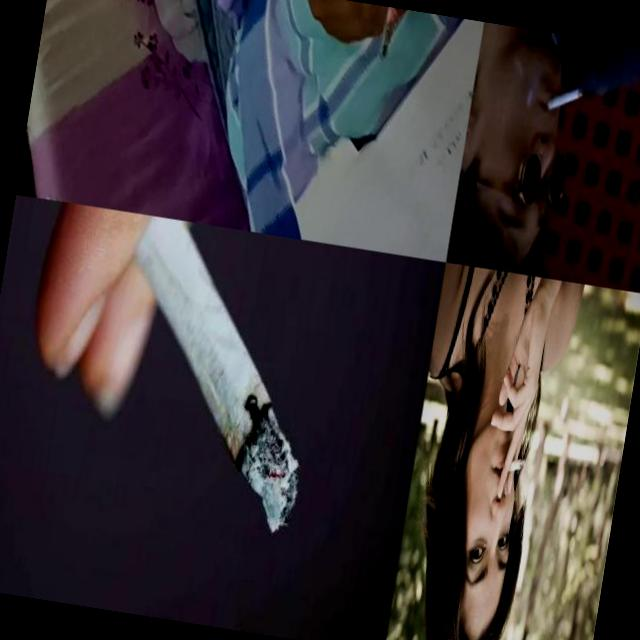smoke: (52, 207, 338, 538), (378, 8, 404, 60), (546, 82, 584, 116), (502, 455, 526, 477)
